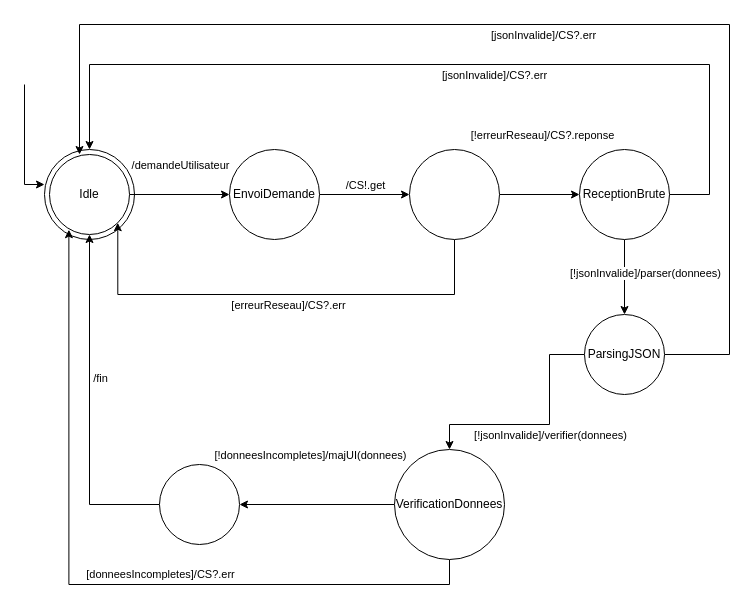
Some shapes in this 755 by 610 pixel diagram are drawn without their labels. Each missing label, with the centre of its shape:
"AttenteReponse" belongs at [454,194].
"MiseAJourUI" belongs at [199,504].
